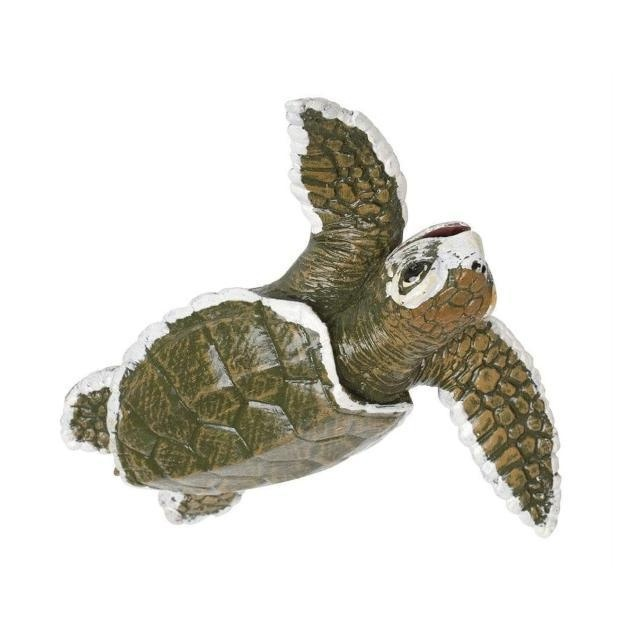turtle: (62, 95, 562, 537)
